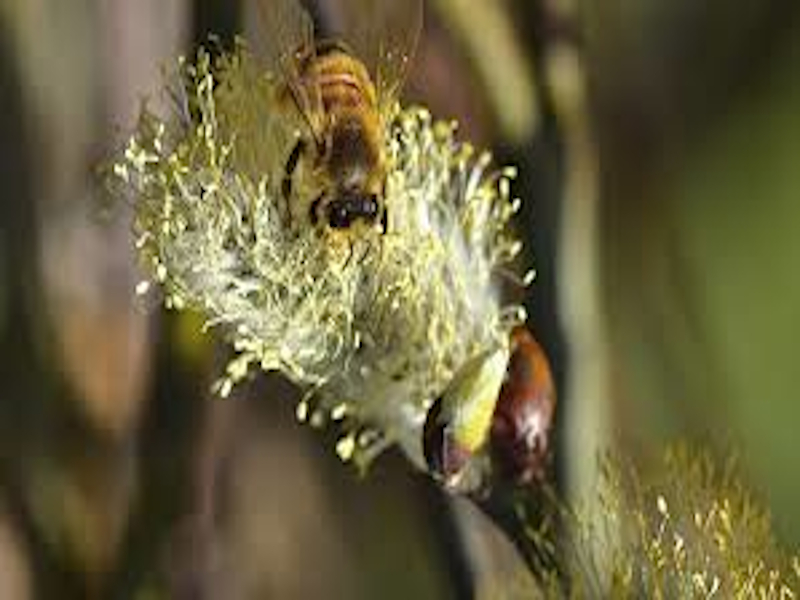abeja: (242, 1, 464, 253)
